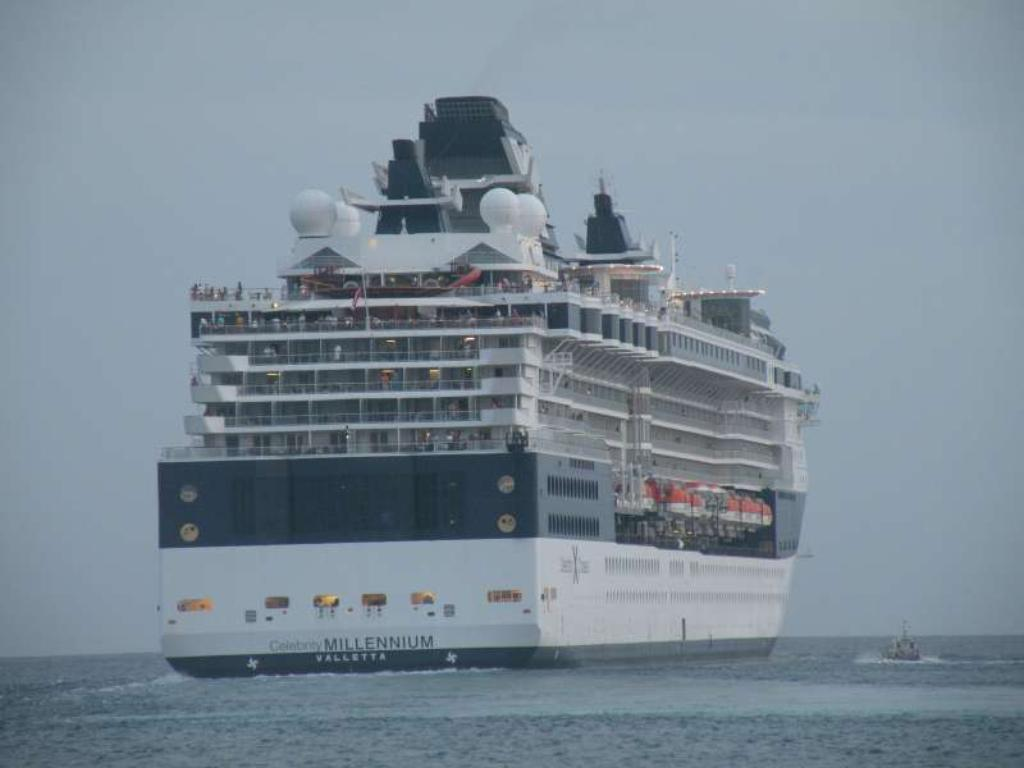PassengerShip: (146, 69, 806, 677)
